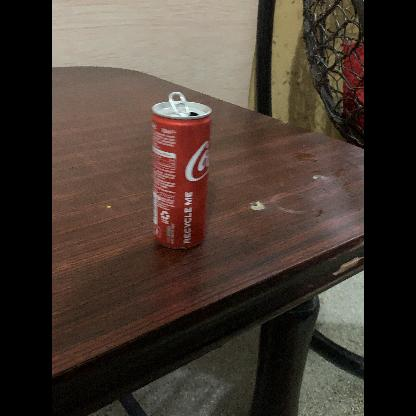Lid_Open: (166, 90, 200, 122)
Tin_Can: (147, 90, 215, 258)
